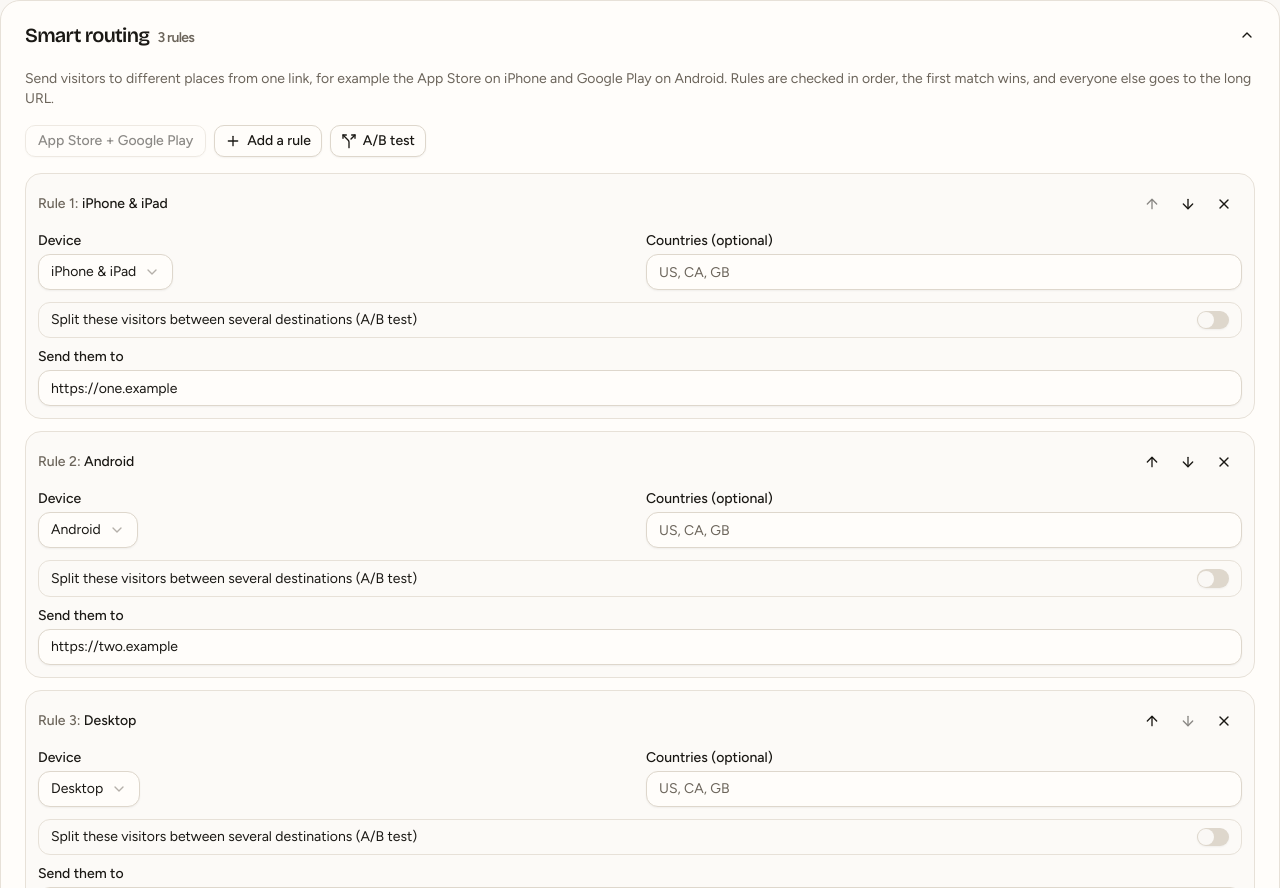
Scenario: RoutingRules › reorders and removes rules, keeping the others intact
This screenshot has width=1280, height=888.
Expected: the button named "Move rule 1 up" is disabled, [1134, 186, 1170, 222]
Expected: the button named "Move rule 3 down" is disabled, [1170, 703, 1206, 739]
Click the button named "Move rule 3 up".
click(1152, 721)  # box [1134, 703, 1170, 739]
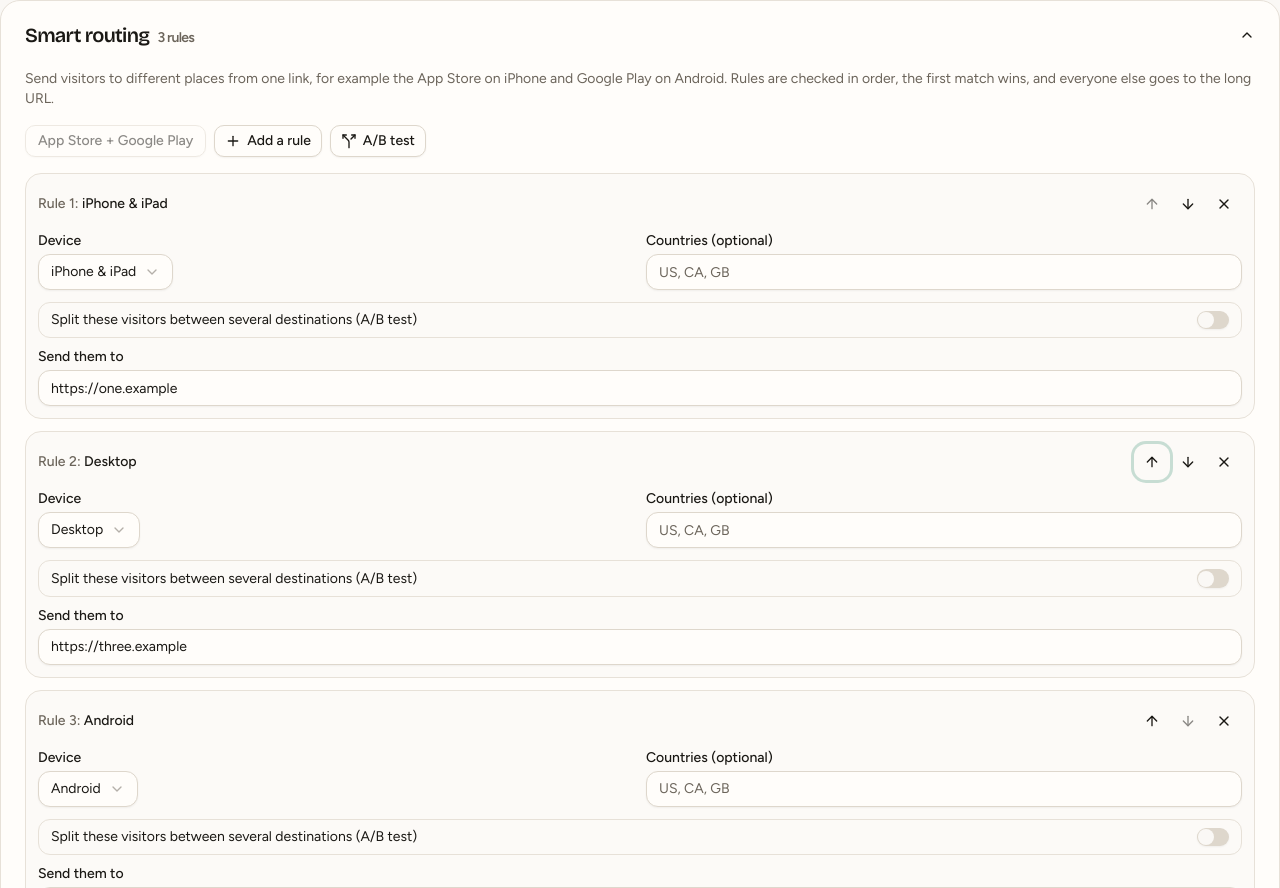
Click the button named "Remove rule 1".
click(1224, 204)  # box [1206, 186, 1242, 222]
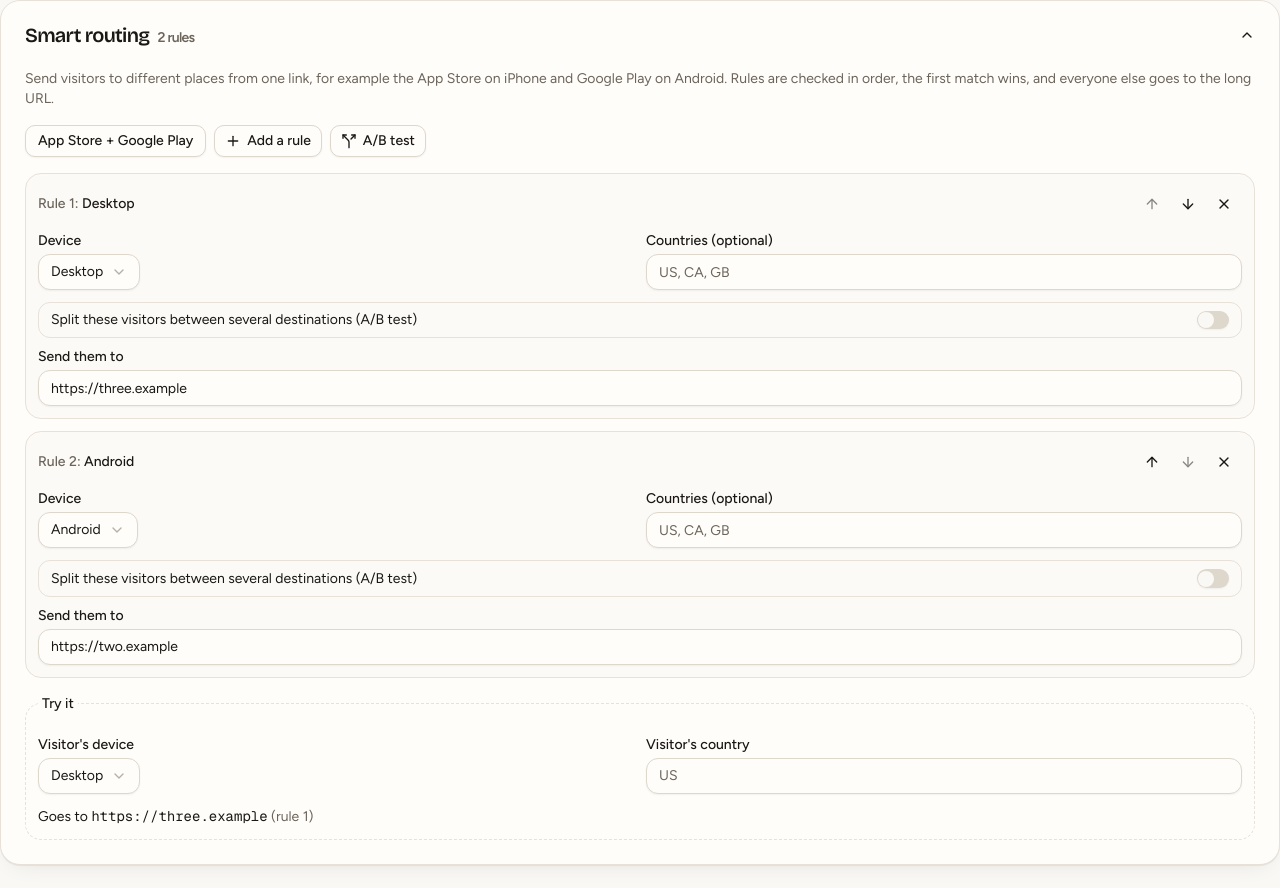
Expected: the number of list items is 2, [25, 173, 1255, 419]; [25, 431, 1255, 678]
